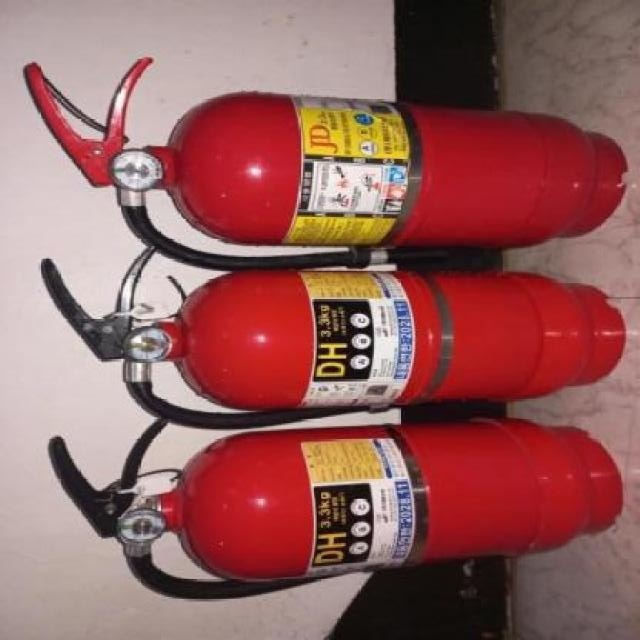fire extinguisher: (22, 57, 627, 272), (38, 245, 625, 431), (46, 418, 625, 602)
